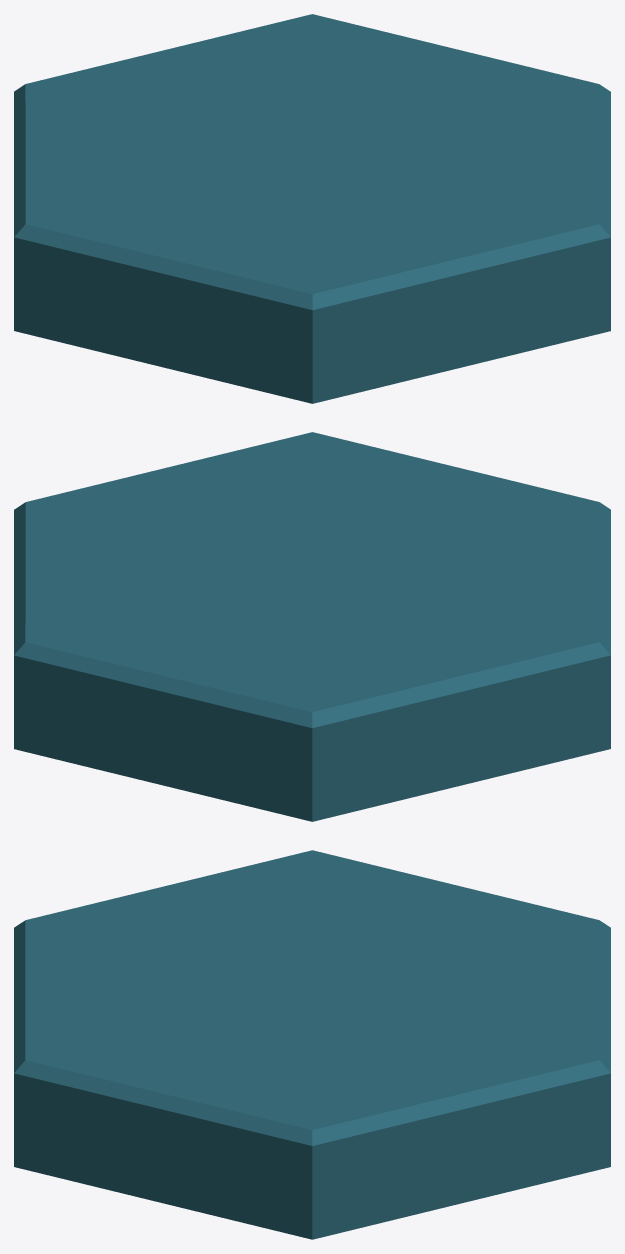
File: Water.fbx
3 renders of one model, top to bottom at view 1: azimuth 30°, elevation 25°; view 2: azimuth 150°, elevation 25°; view 3: azimuth 270°, elevation 25°, orthographic.
Parts seen in each view (by area): view 1: Water; view 2: Water; view 3: Water.
Part boxes in pixels (box(x1,y1,x2,y2)): Water: box(14, 14, 610, 403); Water: box(14, 432, 610, 821); Water: box(14, 850, 610, 1239).
Bounding box in the file's own units: 12 × 2 × 10.4.
